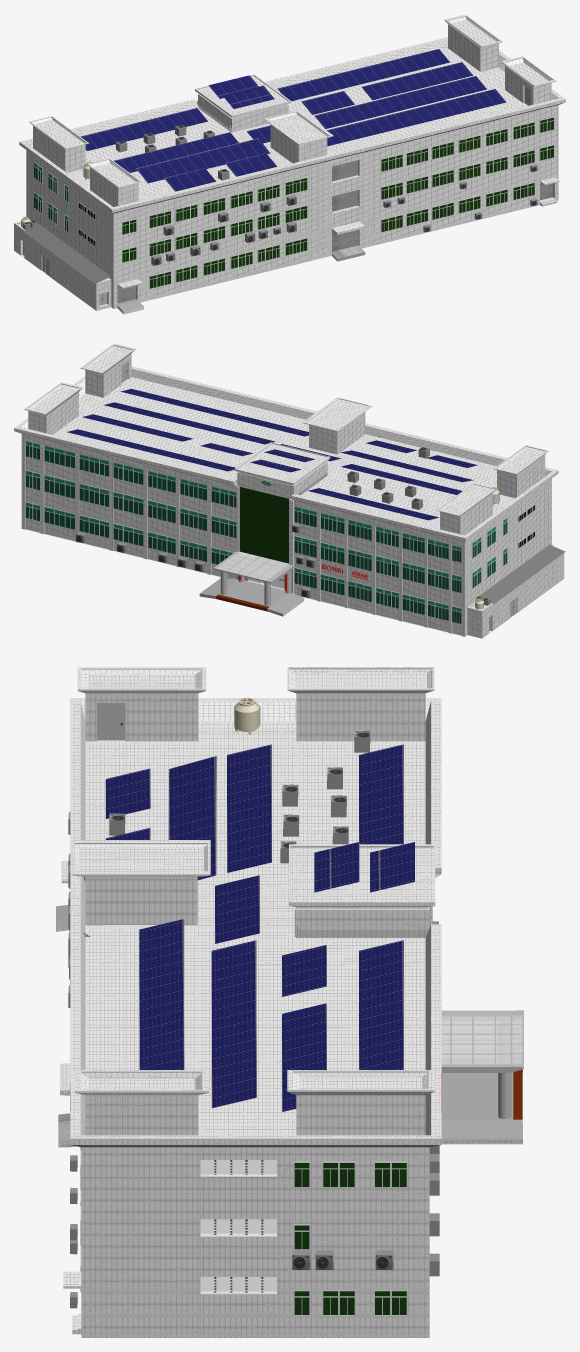
Rendered from SP_building.fbx.
3 views of the same model, one above another, from view 1: azimuth 30°, elevation 25°; view 2: azimuth 150°, elevation 25°; view 3: azimuth 270°, elevation 25° (orthographic). The views are drawn at different scales.
Visible parts, largest first — view 1: SP大樓; view 2: SP大樓; view 3: SP大樓.
Part boxes in pixels (x1,y1,x2,y2): SP大樓: [14, 14, 565, 314]; SP大樓: [14, 343, 565, 638]; SP大樓: [56, 667, 523, 1337].
Bounding box in the file's own units: 6243 × 1585 × 2726.
Materials: 26 (9 with a texture image).
